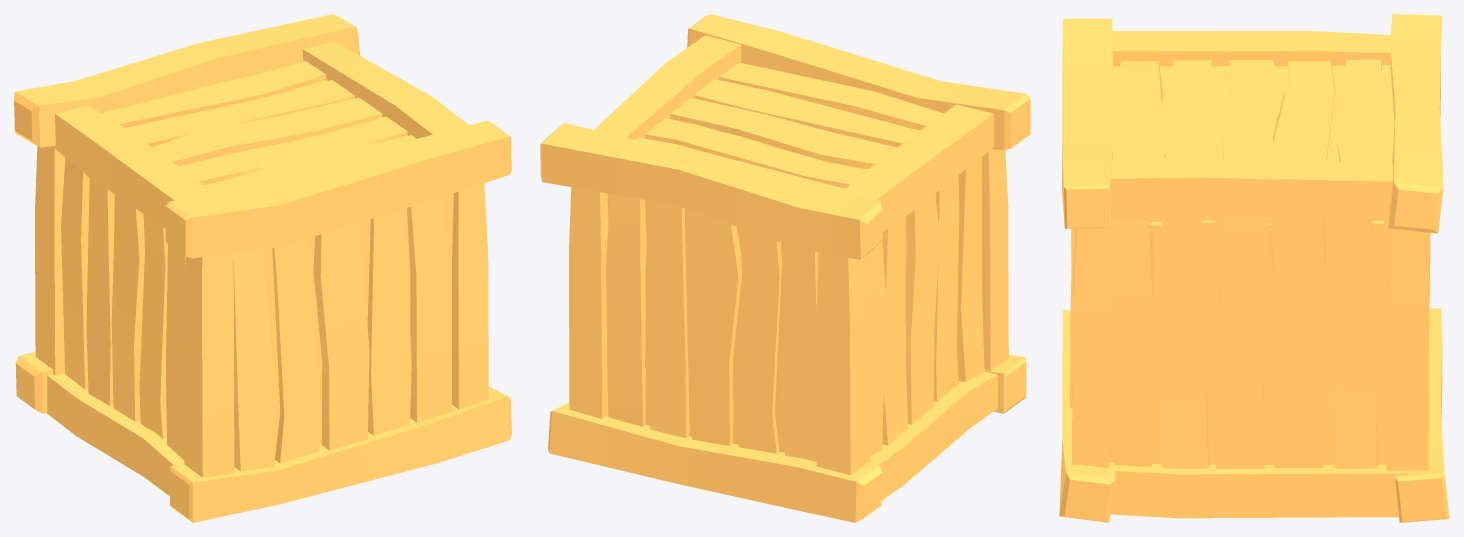
3 views of the same model, side by side, from view 1: azimuth 30°, elevation 25°; view 2: azimuth 150°, elevation 25°; view 3: azimuth 270°, elevation 25° (orthographic). The views are drawn at different scales.
Parts seen in each view (by area): view 1: Cube; view 2: Cube; view 3: Cube.
Boxes of the visible parts, left/top/right/bottom form: Cube: left=14, top=14, right=511, bottom=522; Cube: left=540, top=14, right=1030, bottom=522; Cube: left=1059, top=14, right=1449, bottom=522.
Bounding box in the file's own units: 339 × 309 × 314.
